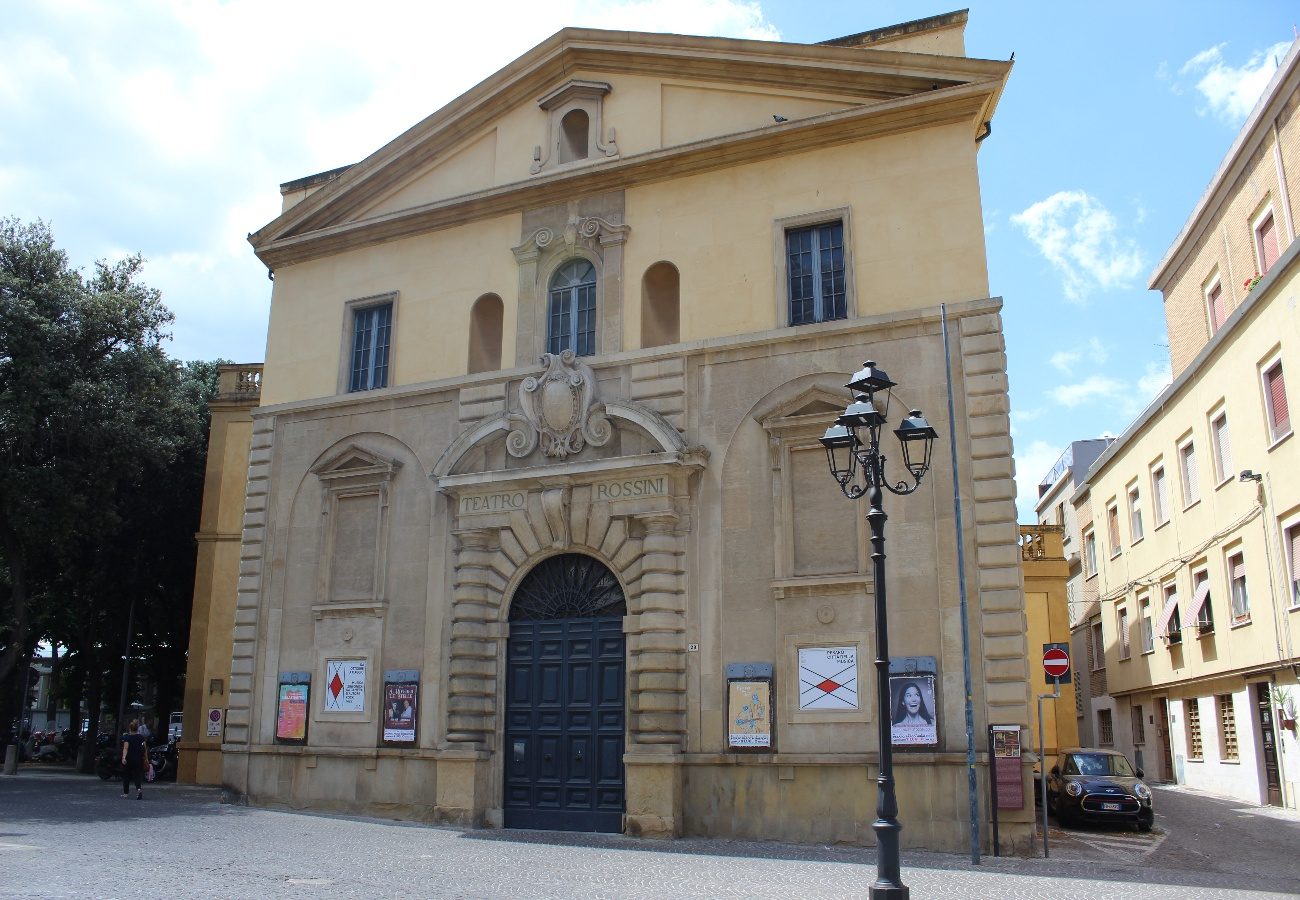Teatro Rossini: (243, 7, 1044, 872)
